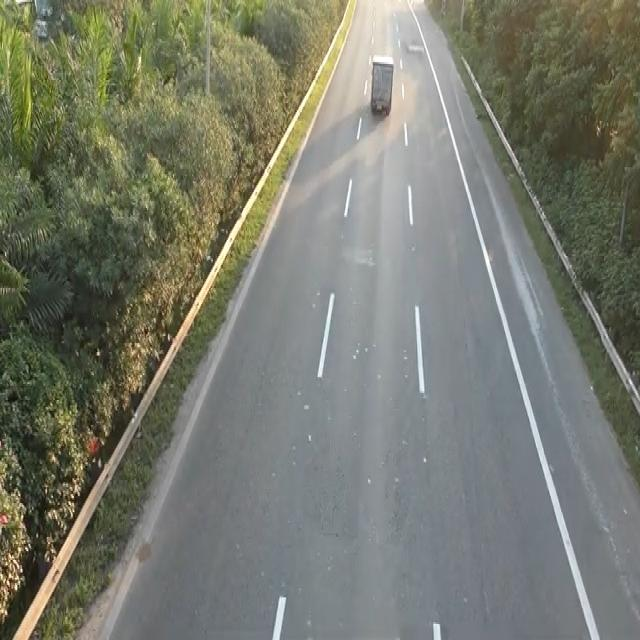minivan: (368, 51, 394, 118)
